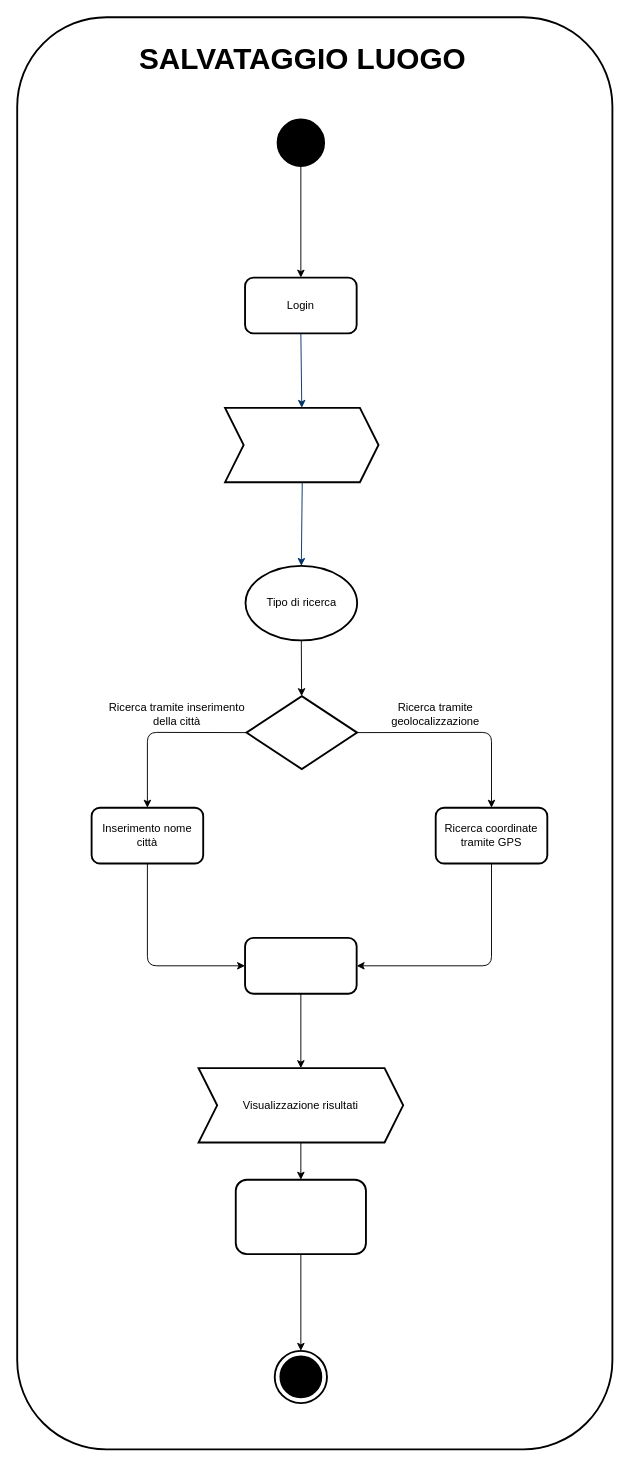
The diagram is 629 pixels wide and 1466 high, and some of its shapes have lost their labels. The box of each missing label's shape, as (x1, y1, x2, y2) in pixels:
Cerca luogo: (224, 406, 379, 483)
Inserimento luogo tra i preferiti: (234, 1178, 366, 1255)
Ricerca luoghi tramite API Google Maps: (244, 937, 357, 994)
